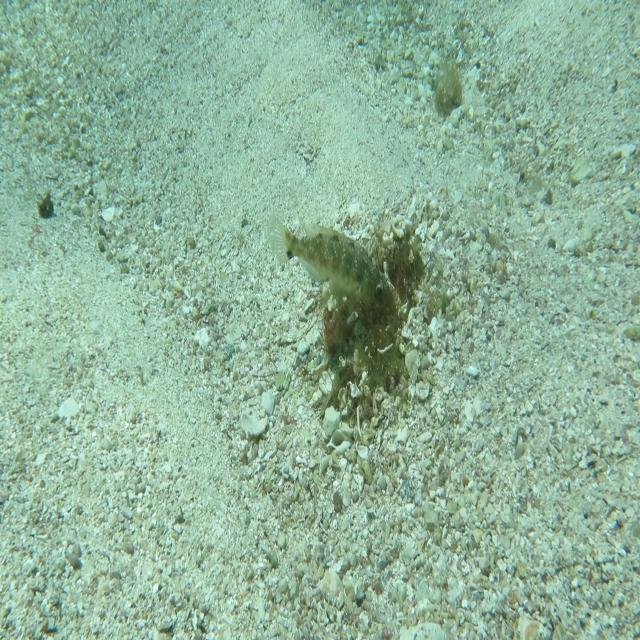NIP_CORE: (266, 213, 388, 312)
nest: (308, 218, 442, 432)
vegetation: (432, 60, 464, 120), (38, 188, 57, 219)
